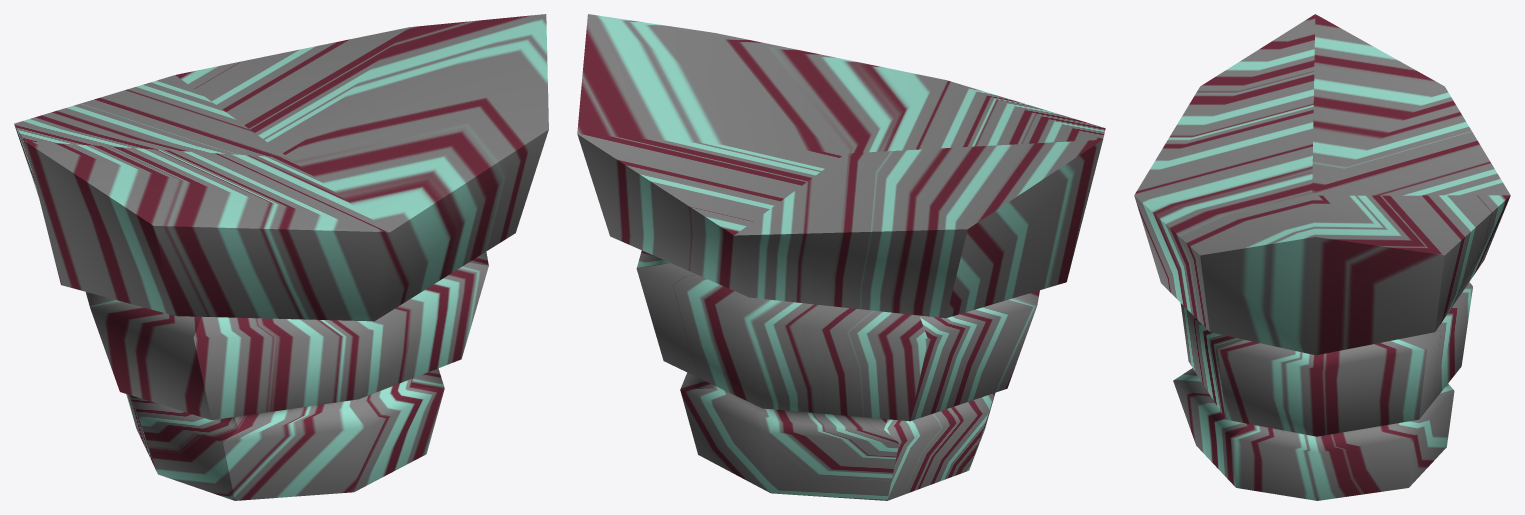
Rendered from headYo.fbx.
3 renders of one model, left to right at view 1: azimuth 30°, elevation 25°; view 2: azimuth 150°, elevation 25°; view 3: azimuth 270°, elevation 25°, orthographic. The views are drawn at different scales.
Visible parts, largest first — view 1: pCube6; view 2: pCube6; view 3: pCube6.
Boxes of the visible parts, x1,y1,x2,y2 form: pCube6: (14, 14, 548, 500); pCube6: (577, 14, 1105, 500); pCube6: (1134, 14, 1510, 500).
Size of the model in its own units: 92.99 by 62.51 by 66.37.
